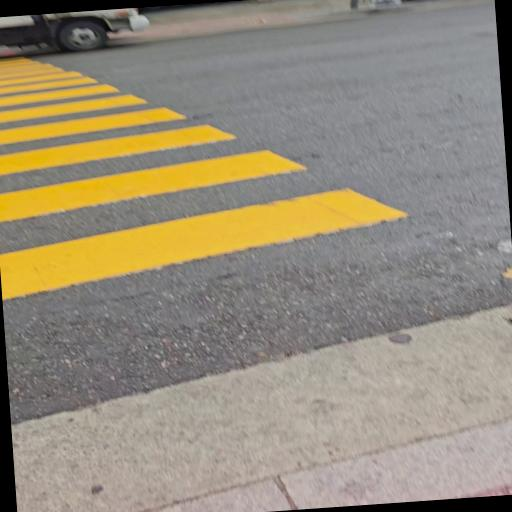yellow-crosswalk: (0, 18, 476, 317)
